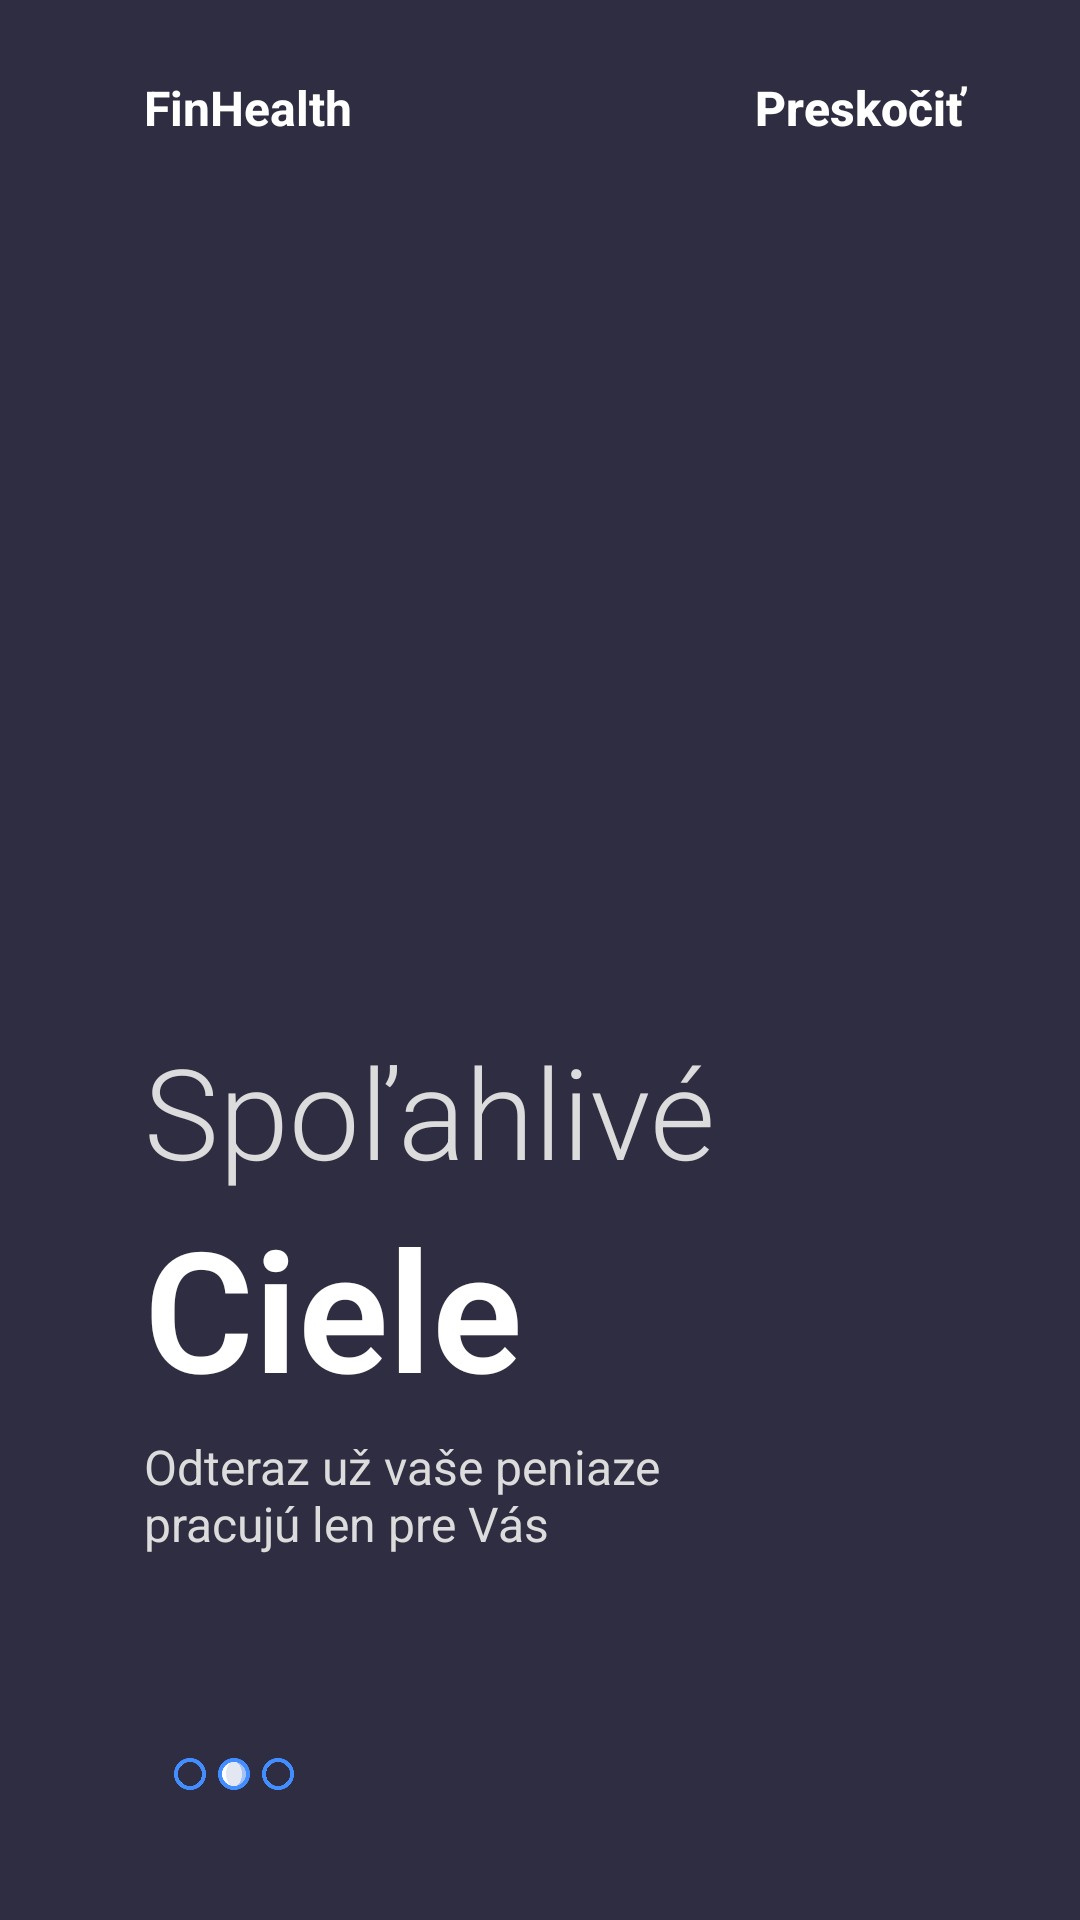

Screen size 1080px×1920px. Icon name, then its center in pixels as point (x, y):
dots: point (234, 1774)
